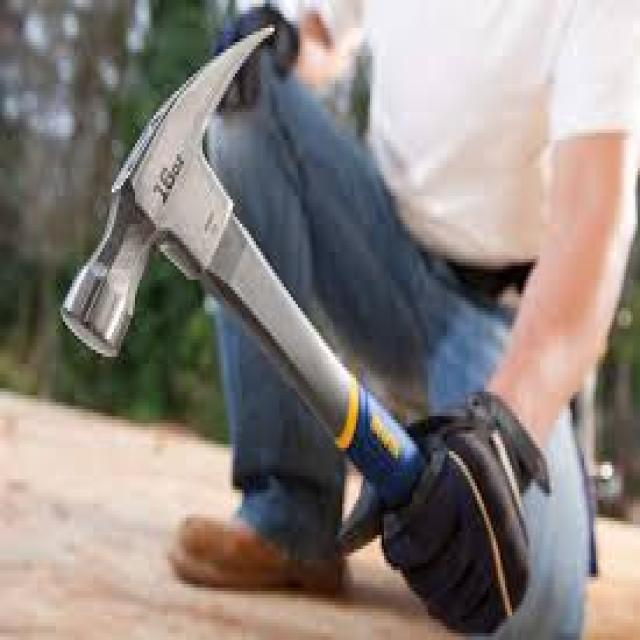hammer: (39, 4, 453, 474)
